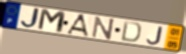A: (65, 13, 90, 38)
D: (120, 20, 143, 43)
J: (19, 7, 43, 29), (145, 26, 163, 46)
M: (36, 8, 68, 35)
N: (91, 16, 116, 41)
